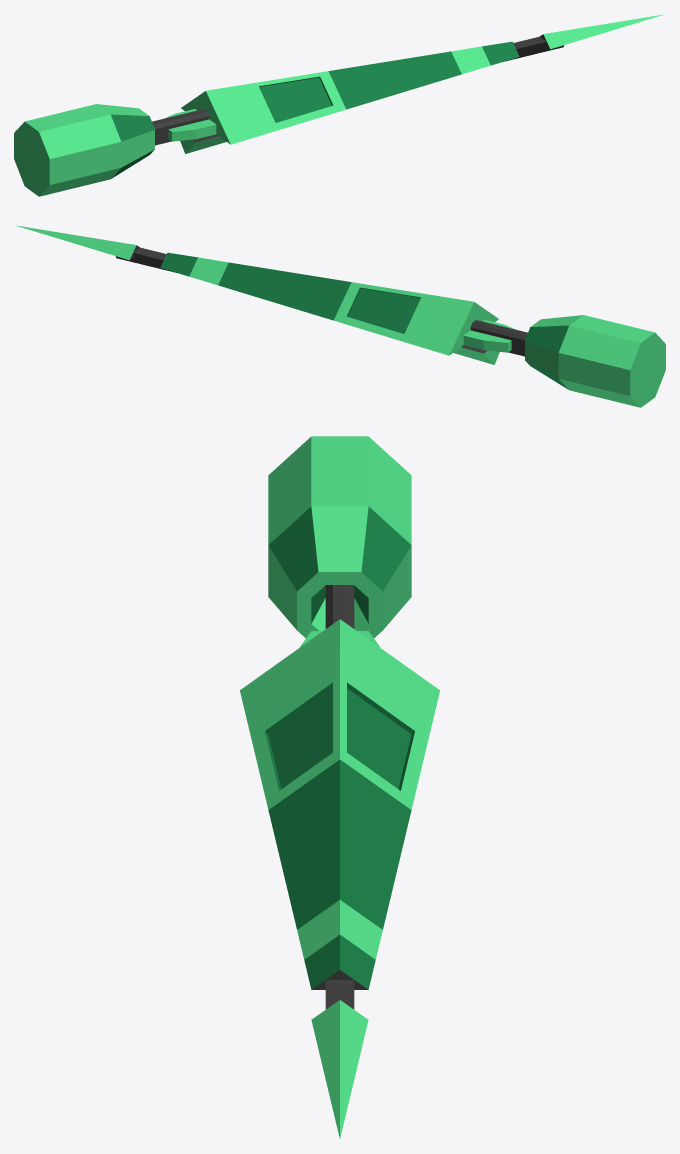
The model's file is Sword.FBX.
3 renders of one model, top to bottom at view 1: azimuth 30°, elevation 25°; view 2: azimuth 150°, elevation 25°; view 3: azimuth 270°, elevation 25°, orthographic. The views are drawn at different scales.
Visible parts, largest first — view 1: VIFS003, VIFS001, VIFS002; view 2: VIFS003, VIFS001, VIFS002; view 3: VIFS003, VIFS001, VIFS002.
Boxes of the visible parts, bbox=[...] form: VIFS003: bbox=[14, 14, 664, 196]; VIFS001: bbox=[111, 41, 519, 178]; VIFS002: bbox=[152, 34, 564, 145]; VIFS003: bbox=[15, 225, 665, 407]; VIFS001: bbox=[160, 252, 568, 389]; VIFS002: bbox=[115, 245, 527, 356]; VIFS003: bbox=[240, 436, 439, 1138]; VIFS001: bbox=[265, 506, 414, 989]; VIFS002: bbox=[311, 585, 368, 1009].
Size of the model in its own units: 2.46 by 0.24 by 0.336.
